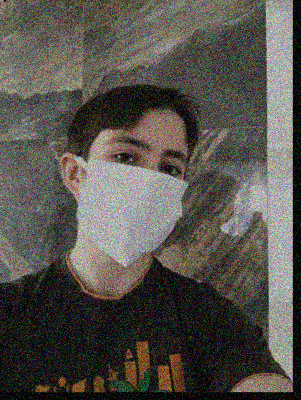with_mask: (74, 130, 188, 268)
